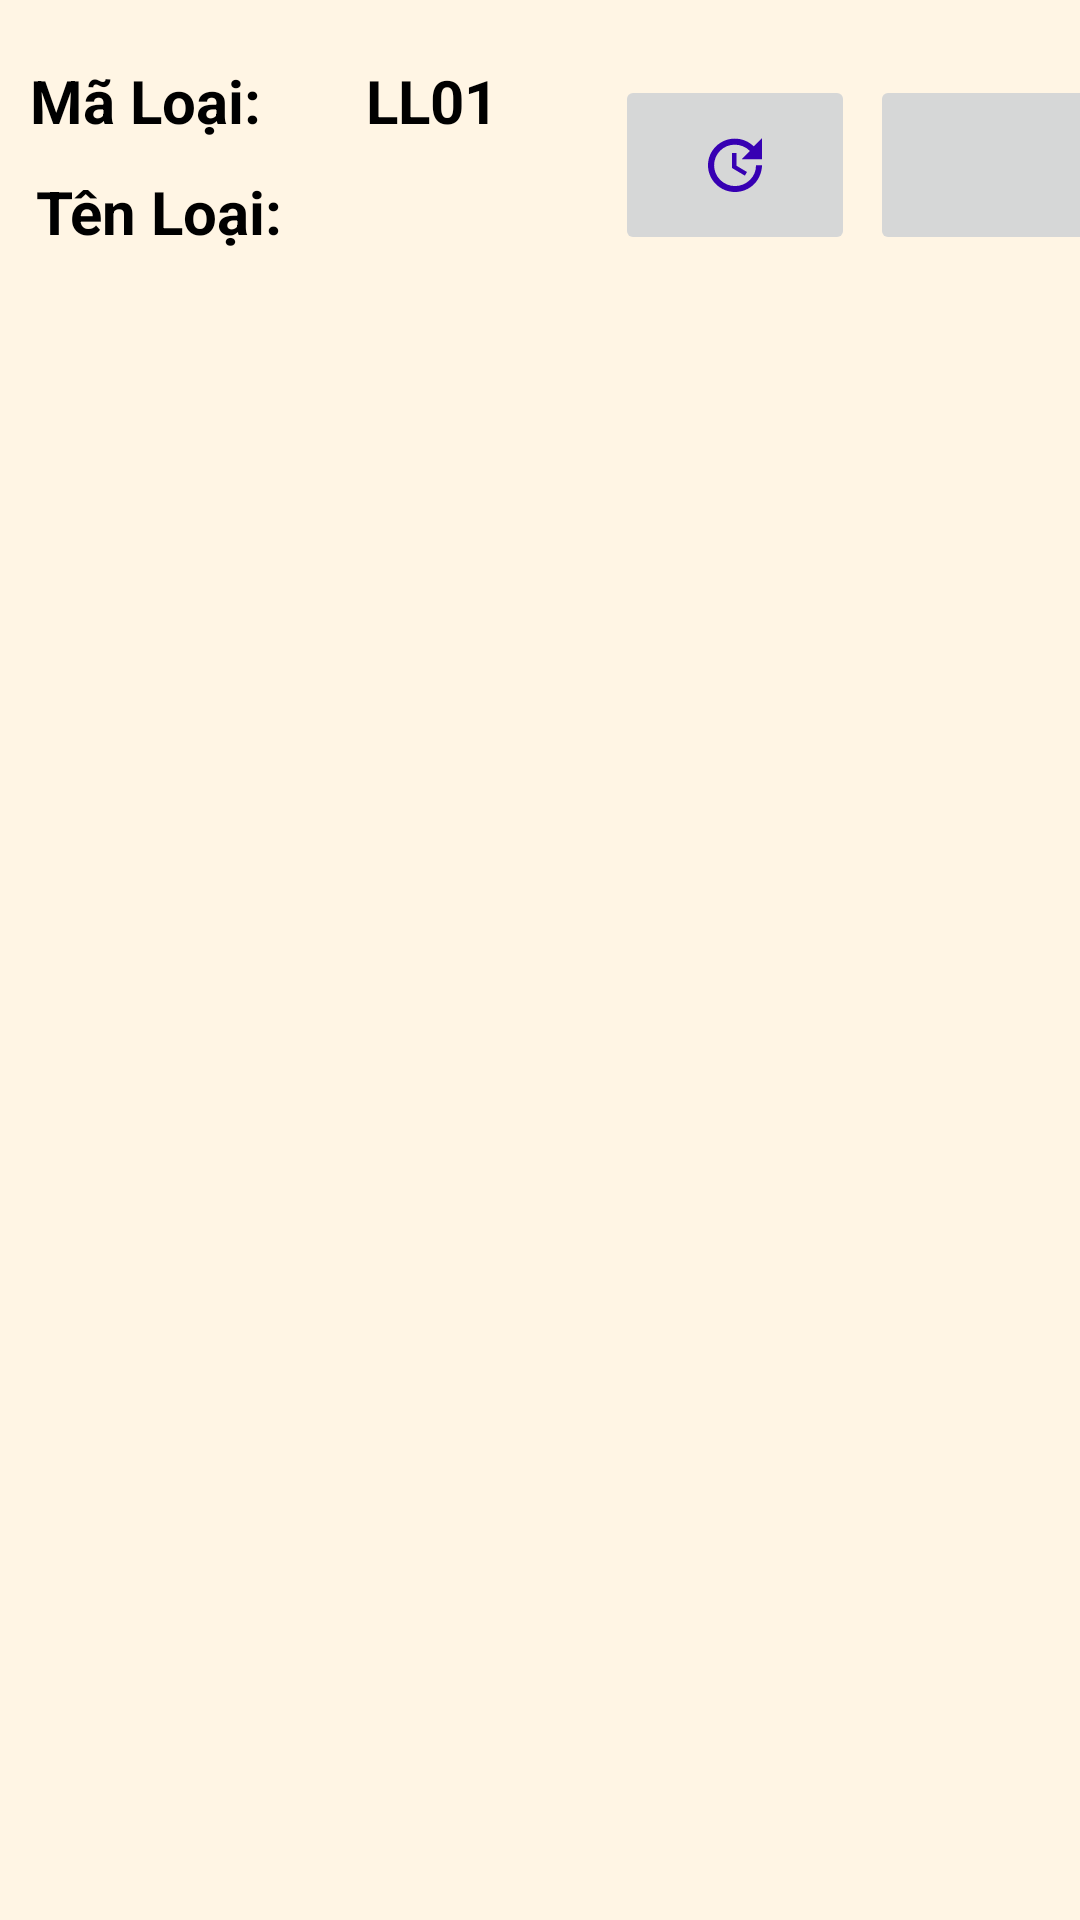

Icon bounding boxes for this 1080×1920 phone screenshot, format Rect(x1, y1, x2, y2):
update: Rect(627, 93, 843, 237)
